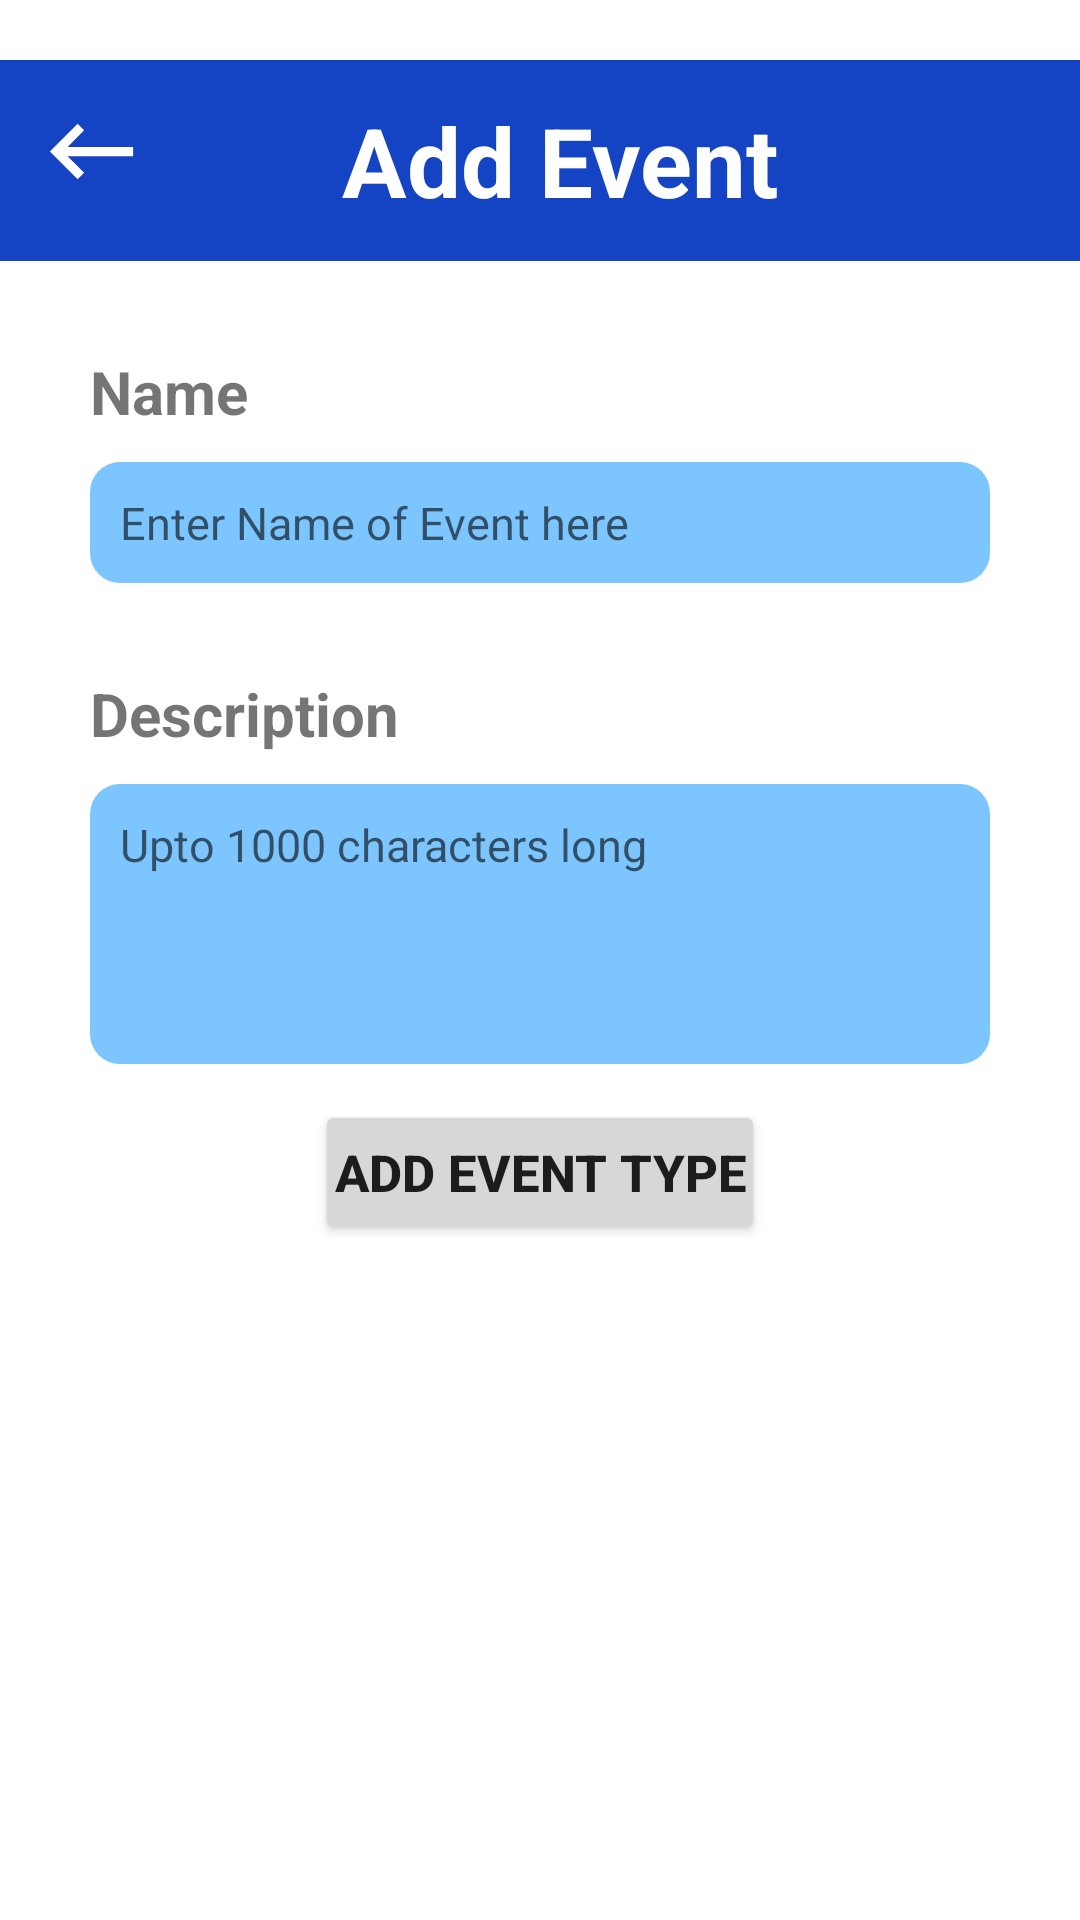

Where to tap for icons on this 1080px×1920px app screen, as (x,y):
back arrow: (92,151)
